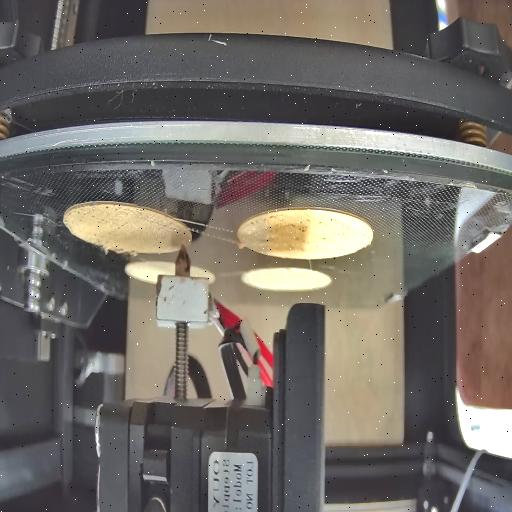under_extrusion: (289, 214, 351, 249), (68, 203, 134, 235), (246, 212, 285, 234), (160, 216, 178, 240)
